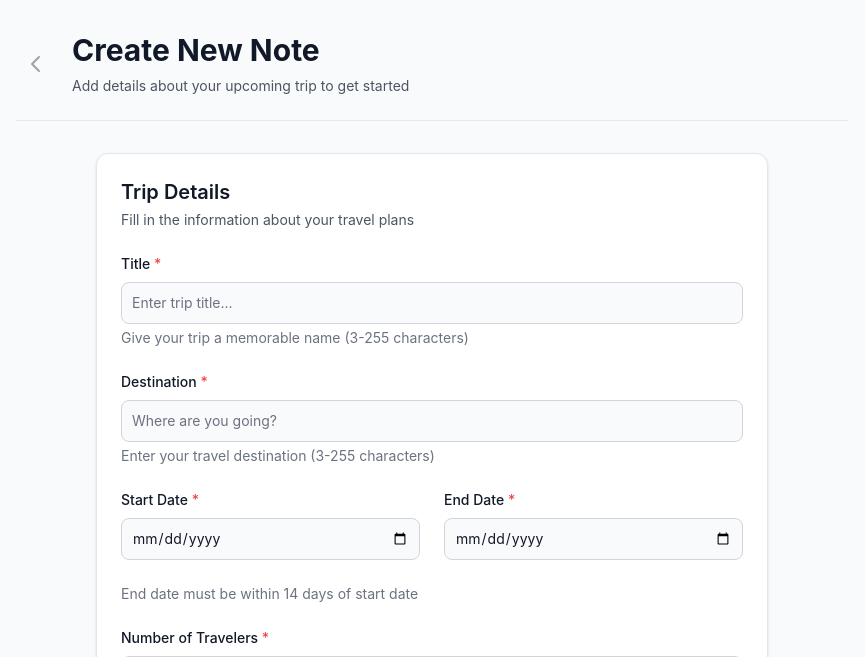
Test: NoteCreateView - Core Functionality › Form Submission › should handle API errors with specific error message
Note: Fill form with minimal data
Type "Test Title" into the field labelled "Title *" at (432, 303), box [121,282,743,324]
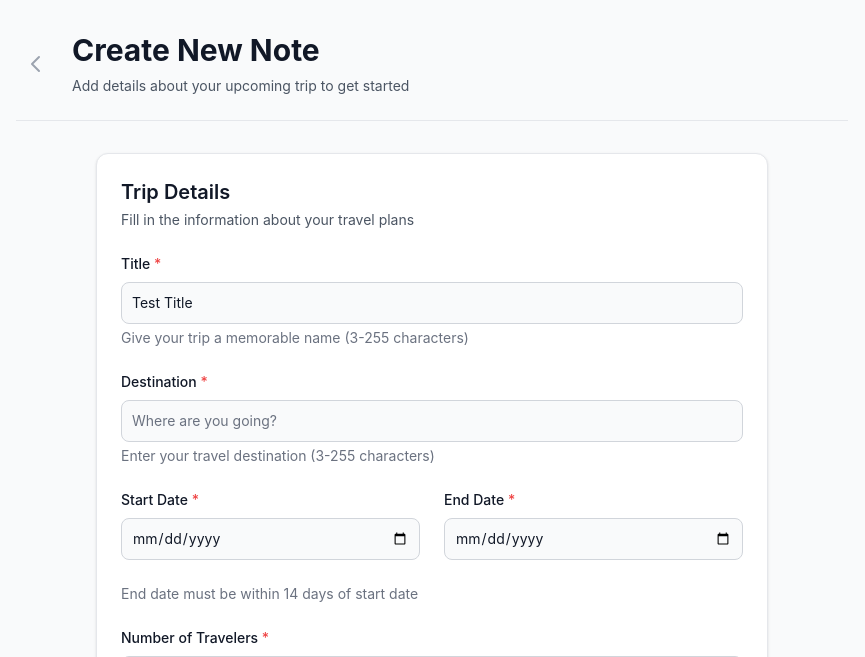
Type "Test Place" into the field labelled "Destination *" at (432, 421), box [121,400,743,442]
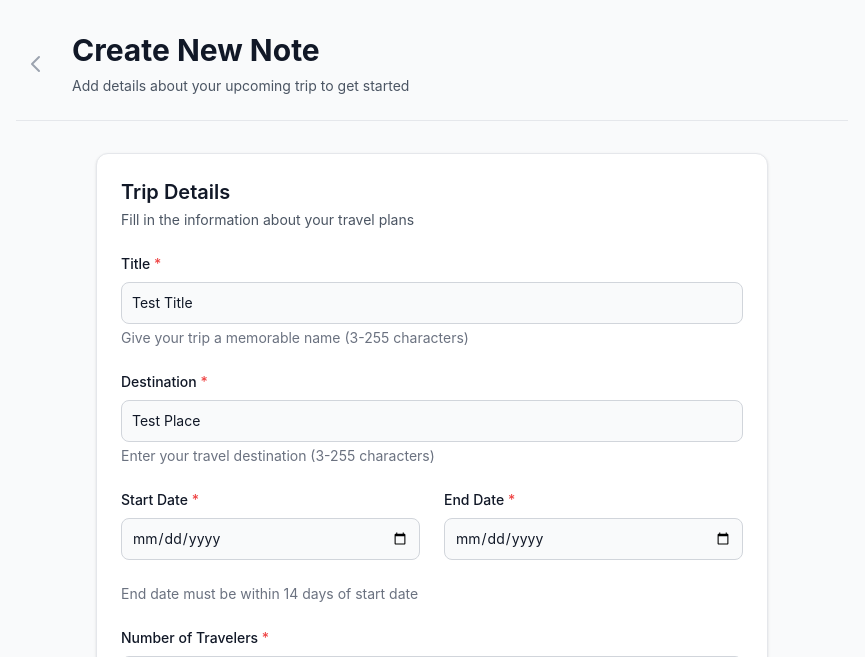
Type "2025-07-10" into the date field labelled "Start Date *" at (270, 539), box [121,518,420,560]
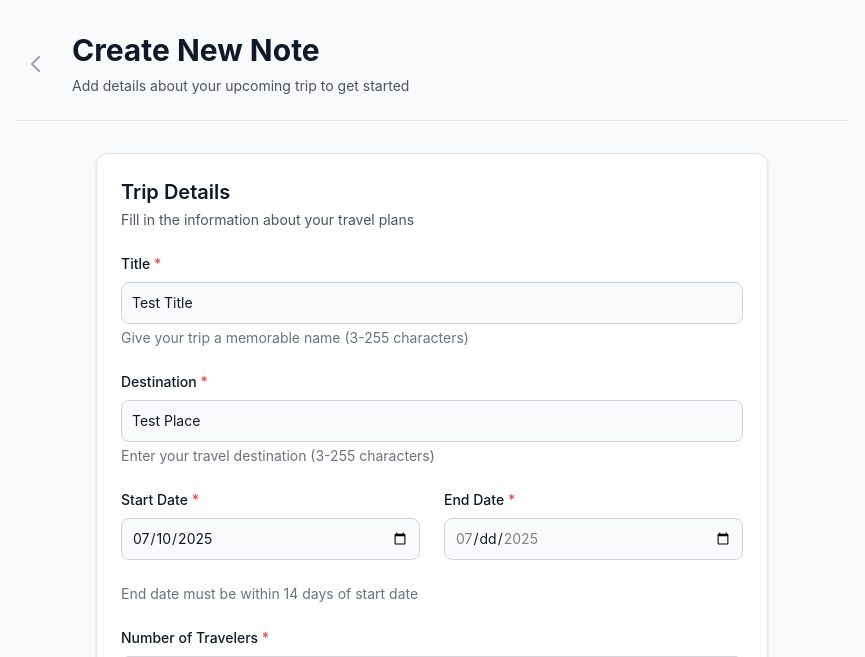
Type "2025-07-15" into the date field labelled "End Date *" at (594, 539), box [444,518,743,560]
(page scrolled)
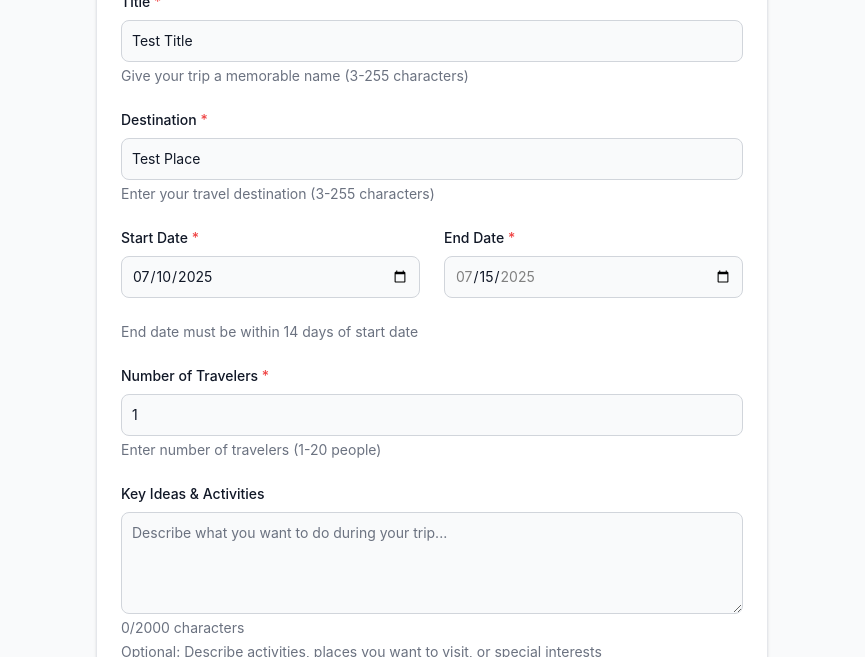
Submit the form
(page scrolled)
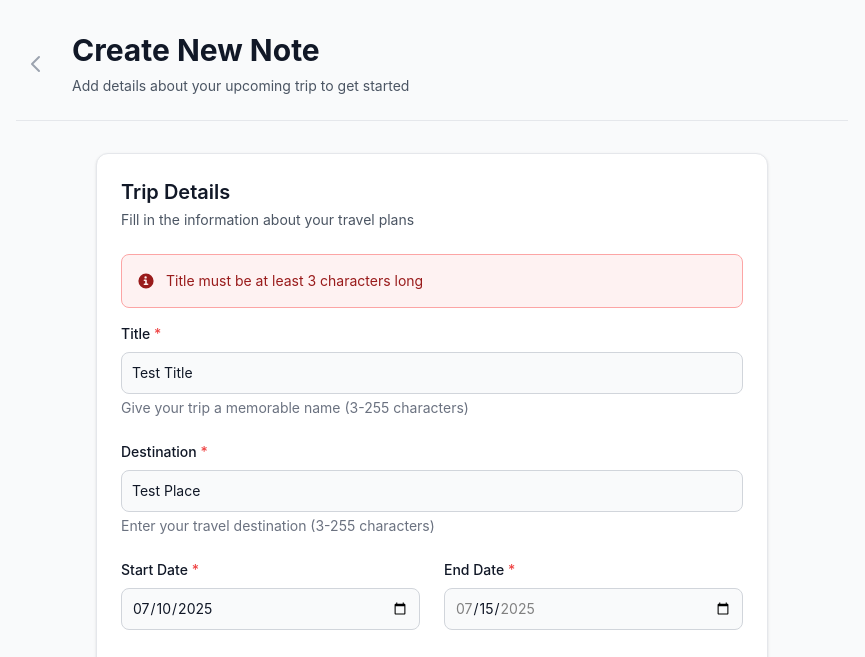
Expected: the message "Title must be at least 3 characters long" is shown, [121,254,743,308]
Expected: the text "Title must be at least 3 characters long" is shown, [166,271,423,291]
